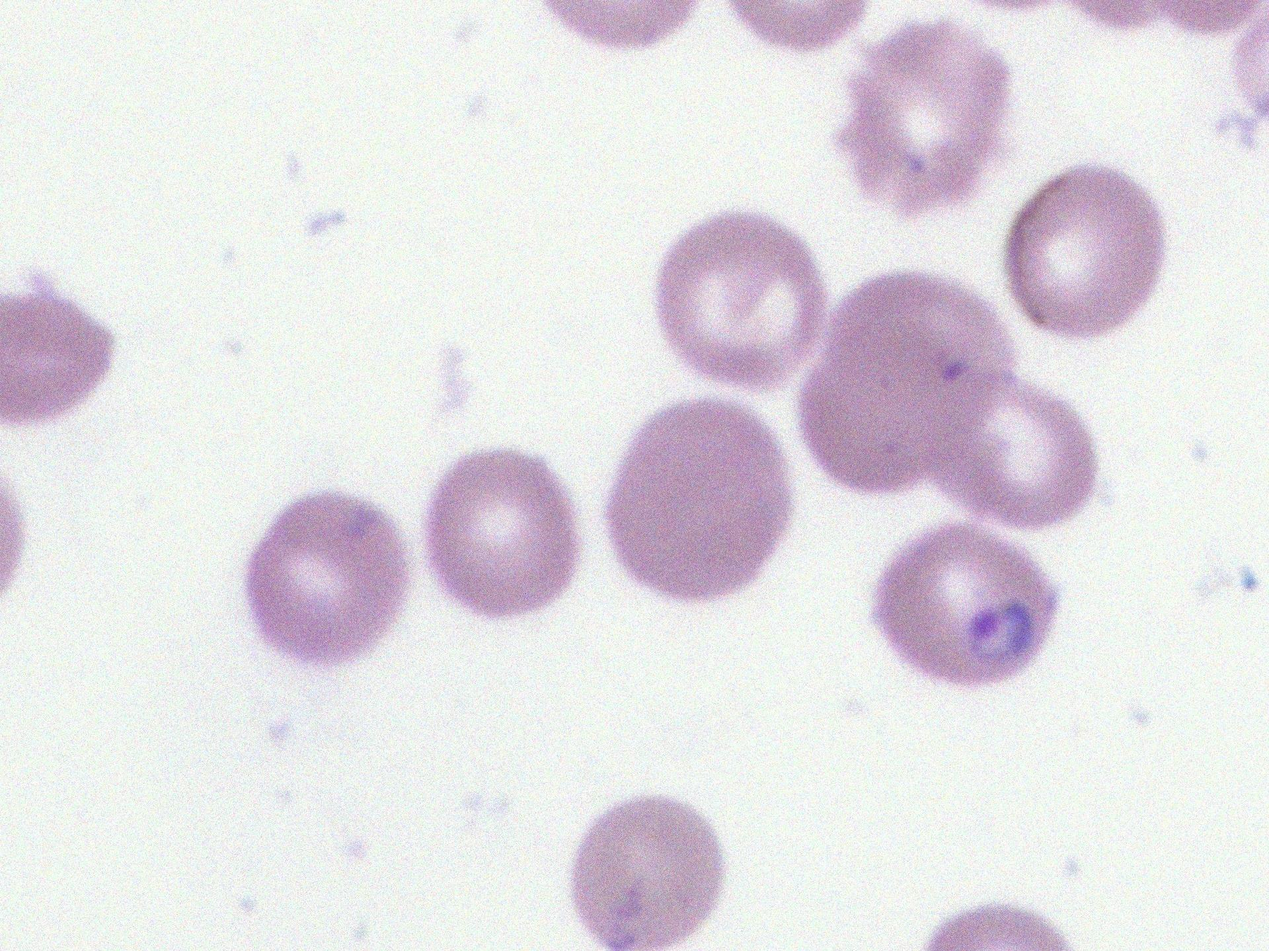Infected: (871, 522, 1058, 690)
Uninfected: (610, 399, 790, 600), (834, 20, 1010, 219), (834, 268, 1015, 458), (654, 210, 820, 389), (245, 493, 406, 661), (1005, 167, 1163, 337), (423, 448, 579, 618), (929, 369, 1097, 525), (798, 326, 950, 497), (573, 793, 722, 951)
